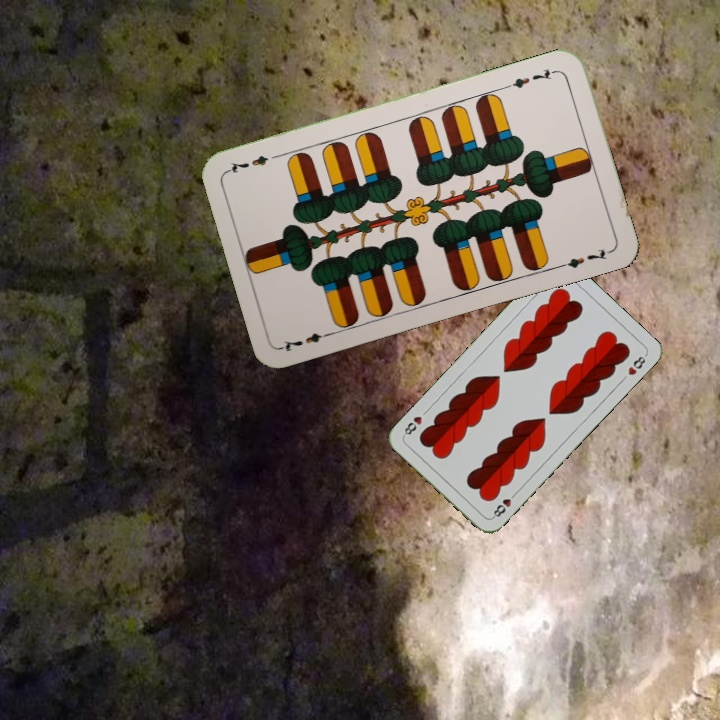E7: (502, 64, 560, 91), (278, 328, 336, 355)
H8: (488, 488, 520, 521)
